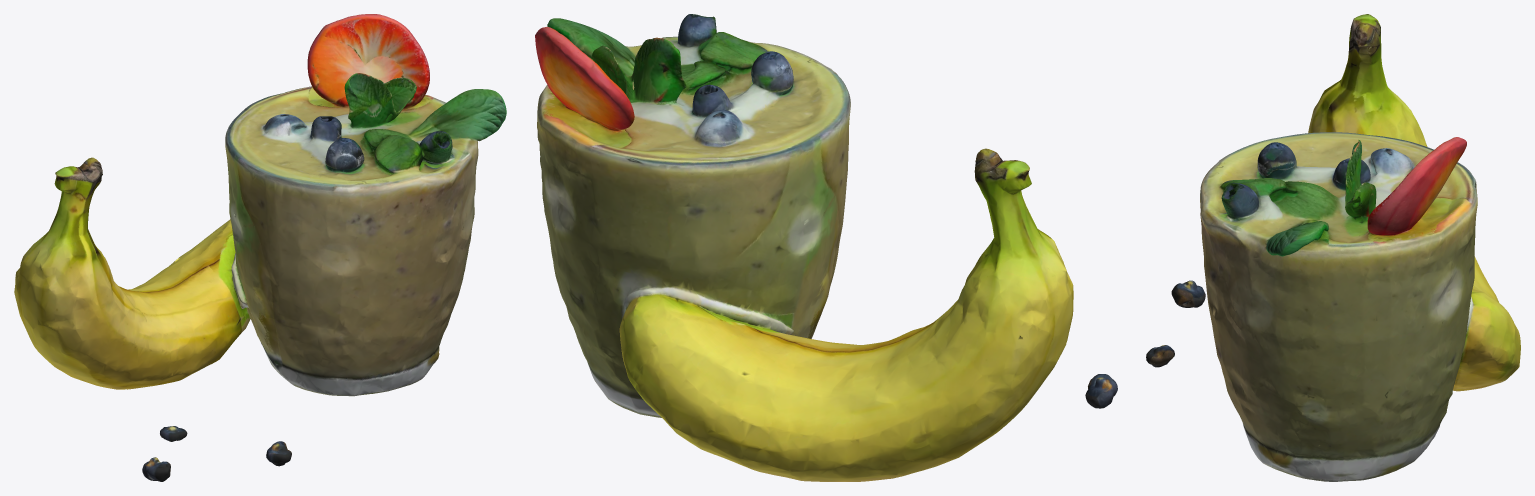
The model's file is cold_coffee.glb.
3 renders of one model, left to right at view 1: azimuth 30°, elevation 25°; view 2: azimuth 150°, elevation 25°; view 3: azimuth 270°, elevation 25°, orthographic. The views are drawn at different scales.
Bounding box in the file's own units: 2 × 1.3 × 1.31.
Materials: 1 (1 with a texture image).
